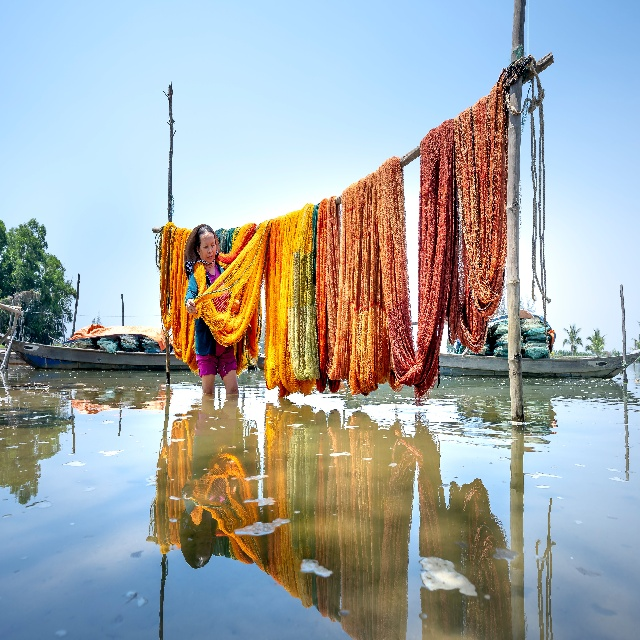Sin_guantes: (186, 298, 196, 313), (232, 299, 239, 313)
